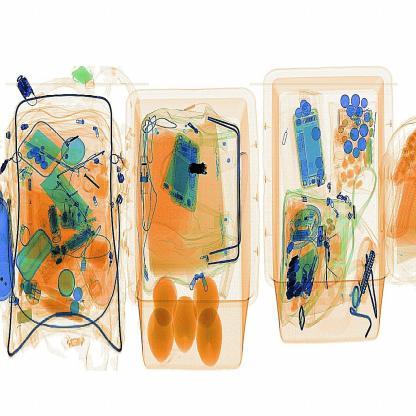scissors: (183, 152, 221, 192)
